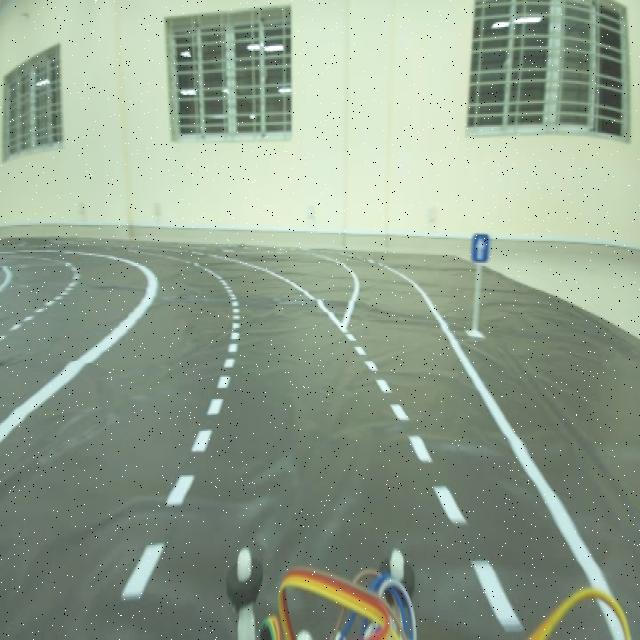onewayroad: (466, 219, 494, 277)
